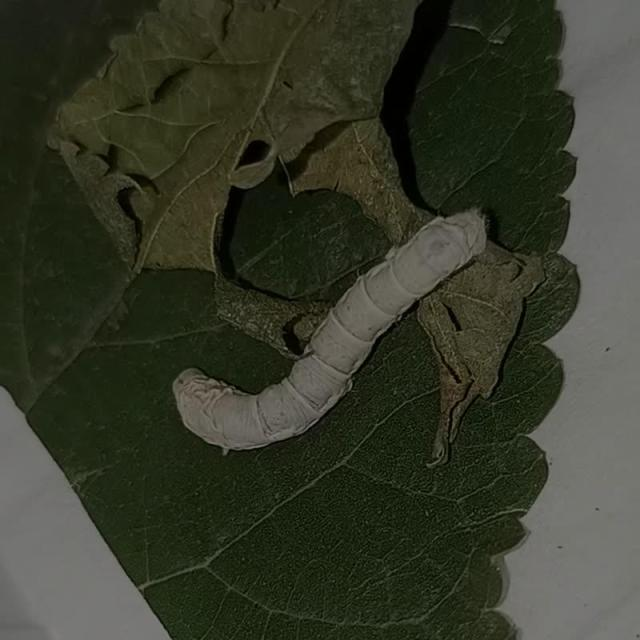Healthy: (152, 172, 530, 494)
